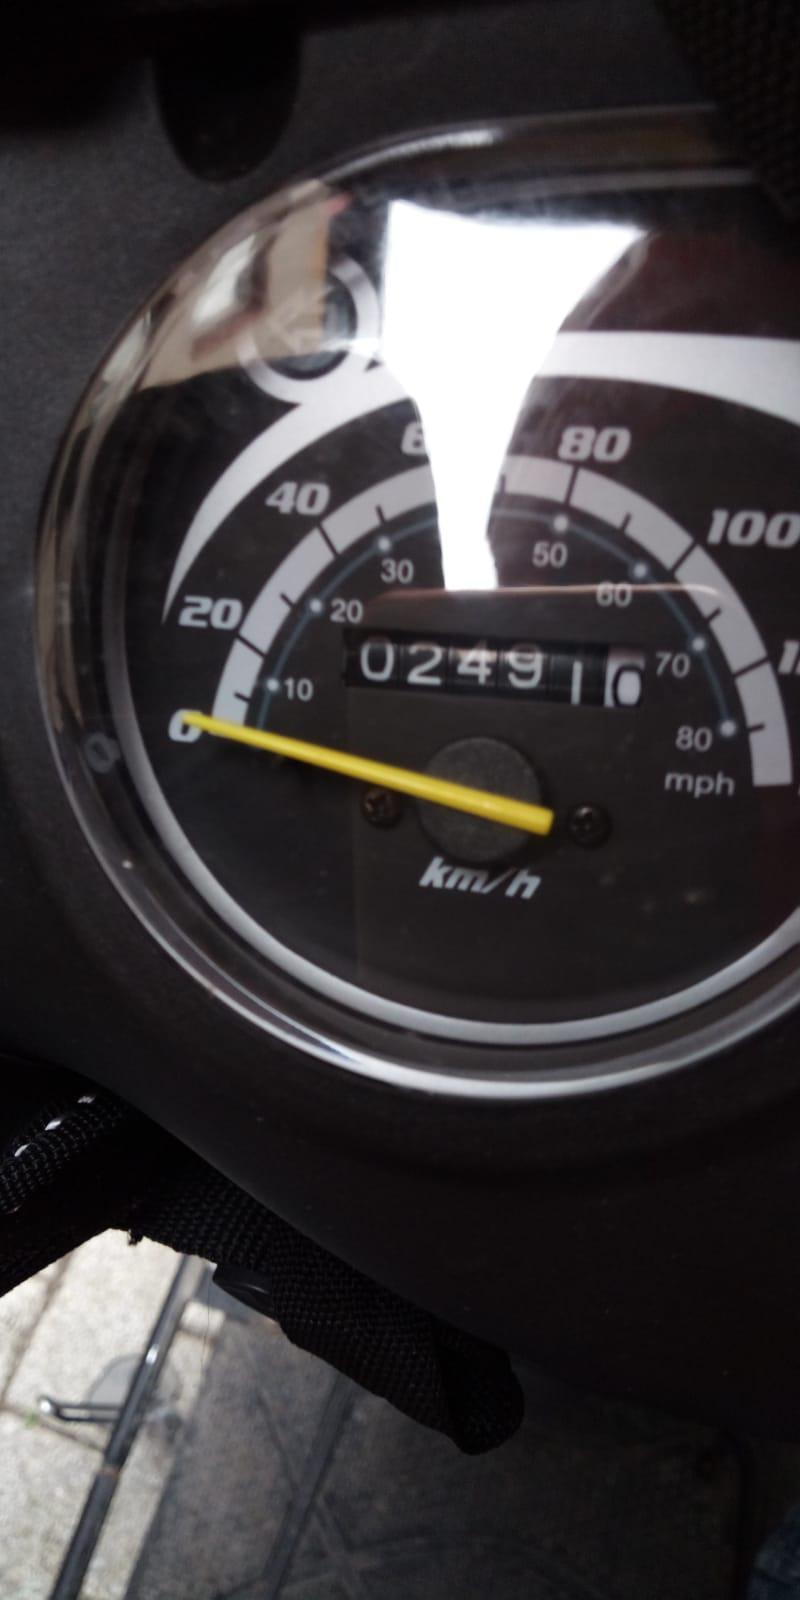0: (608, 660, 647, 710), (359, 636, 395, 682)
1: (564, 655, 586, 709)
2: (404, 640, 445, 687)
4: (454, 636, 494, 688)
9: (504, 639, 544, 690)
odometer: (334, 620, 653, 711)
